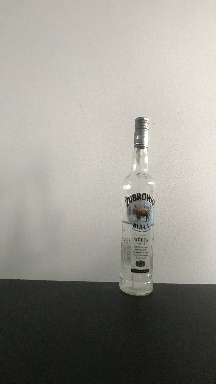butelka: (117, 113, 156, 298)
